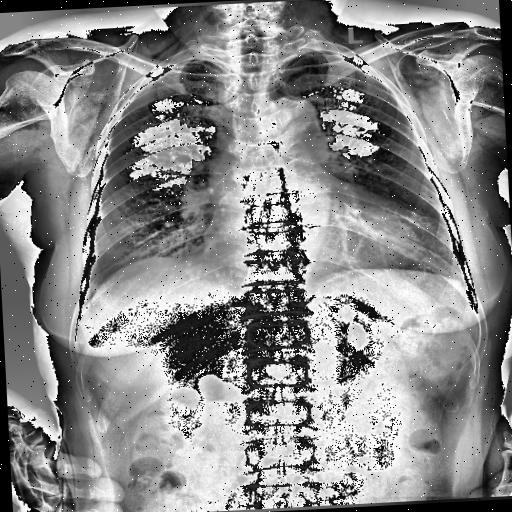0- Aortic enlargement: (258, 94, 328, 156), (256, 94, 322, 158), (274, 94, 320, 145)
11- Pleural thickening: (165, 53, 217, 68), (295, 48, 338, 57)
3- Cardiomegaly: (195, 206, 465, 306), (200, 194, 442, 282), (200, 200, 427, 280)
